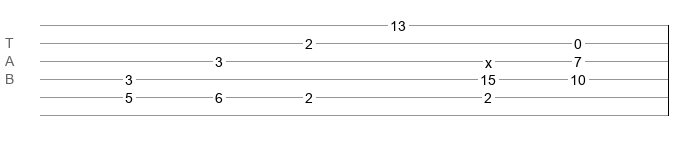0: (574, 36, 582, 46)
10: (570, 72, 586, 82)
13: (390, 18, 406, 28)
15: (480, 72, 496, 82)
2: (305, 90, 313, 100), (305, 36, 313, 46), (484, 90, 492, 100)
3: (125, 72, 133, 82), (215, 54, 223, 64)
5: (125, 90, 133, 100)
6: (215, 90, 223, 100)
7: (574, 54, 582, 64)
x: (485, 55, 492, 63)
